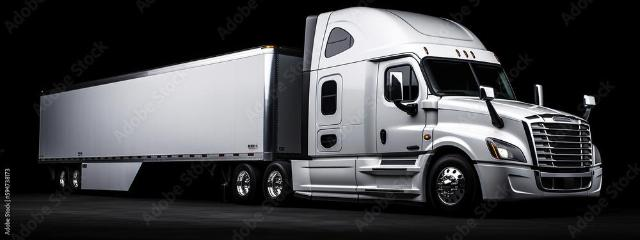truck: (281, 0, 634, 238)
